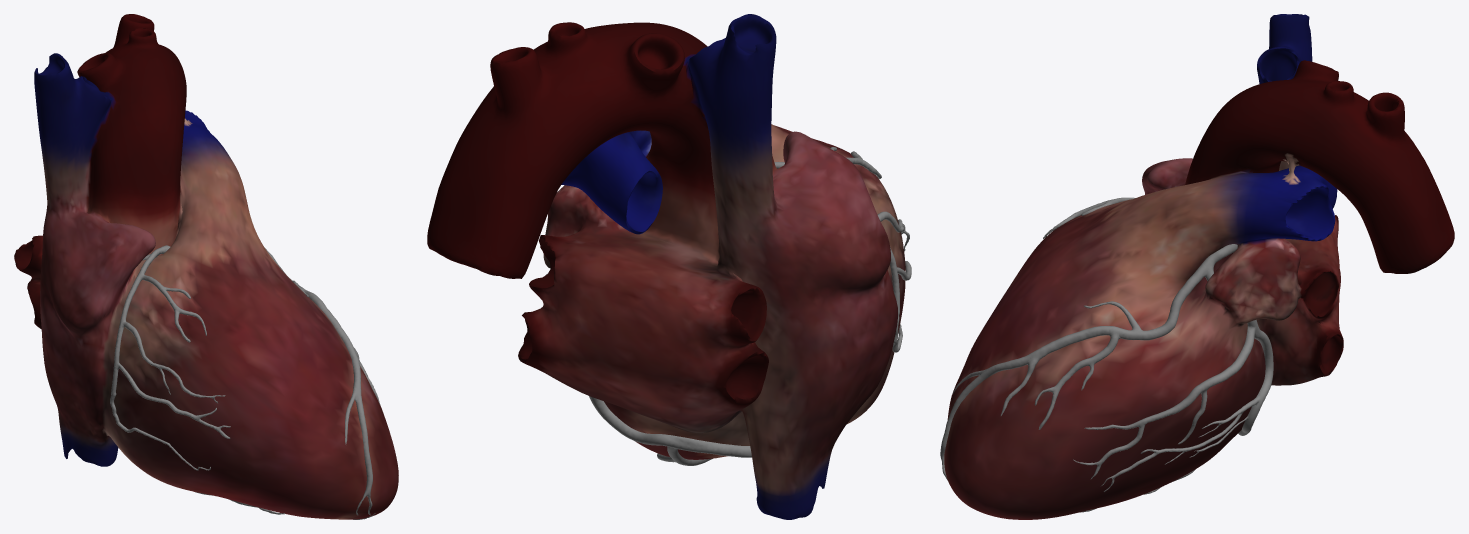
The model's file is LCx0.fbx.
The picture shows the model from 3 angles, left to right: view 1: azimuth 30°, elevation 25°; view 2: azimuth 150°, elevation 25°; view 3: azimuth 270°, elevation 25°; orthographic projection. The views are drawn at different scales.
Visible parts, largest first — view 1: heart_body0, RCA_mid0, LAD_dist0, RCA_dist0, LAD_mid0; view 2: heart_body0, LCx0, RCA_mid0; view 3: heart_body0, LCx0, LAD_prox0, LAD_dist0, LAD_mid0, D10.
Boxes of the visible parts, <box> form: heart_body0: <box>14,14,398,519</box>; RCA_mid0: <box>114,271,230,438</box>; LAD_dist0: <box>345,347,372,515</box>; RCA_dist0: <box>110,366,210,470</box>; LAD_mid0: <box>307,292,357,353</box>; heart_body0: <box>427,14,905,519</box>; LCx0: <box>545,274,751,465</box>; RCA_mid0: <box>830,147,911,280</box>; heart_body0: <box>944,14,1454,519</box>; LCx0: <box>1073,267,1273,512</box>; LAD_prox0: <box>1084,263,1208,340</box>; LAD_dist0: <box>940,354,1031,480</box>; LAD_mid0: <box>1027,326,1120,366</box>; D10: <box>1034,335,1120,429</box>.
Bounding box in the file's own units: 0.705 × 1.09 × 1.21.
